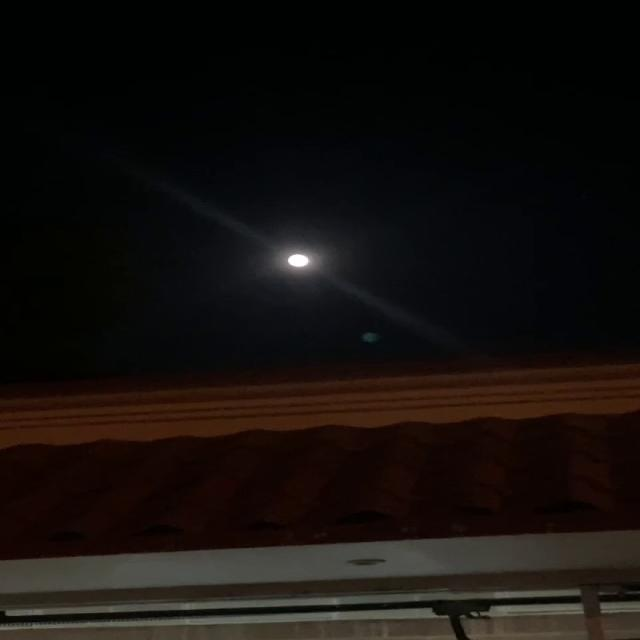moon: (282, 253, 314, 270)
